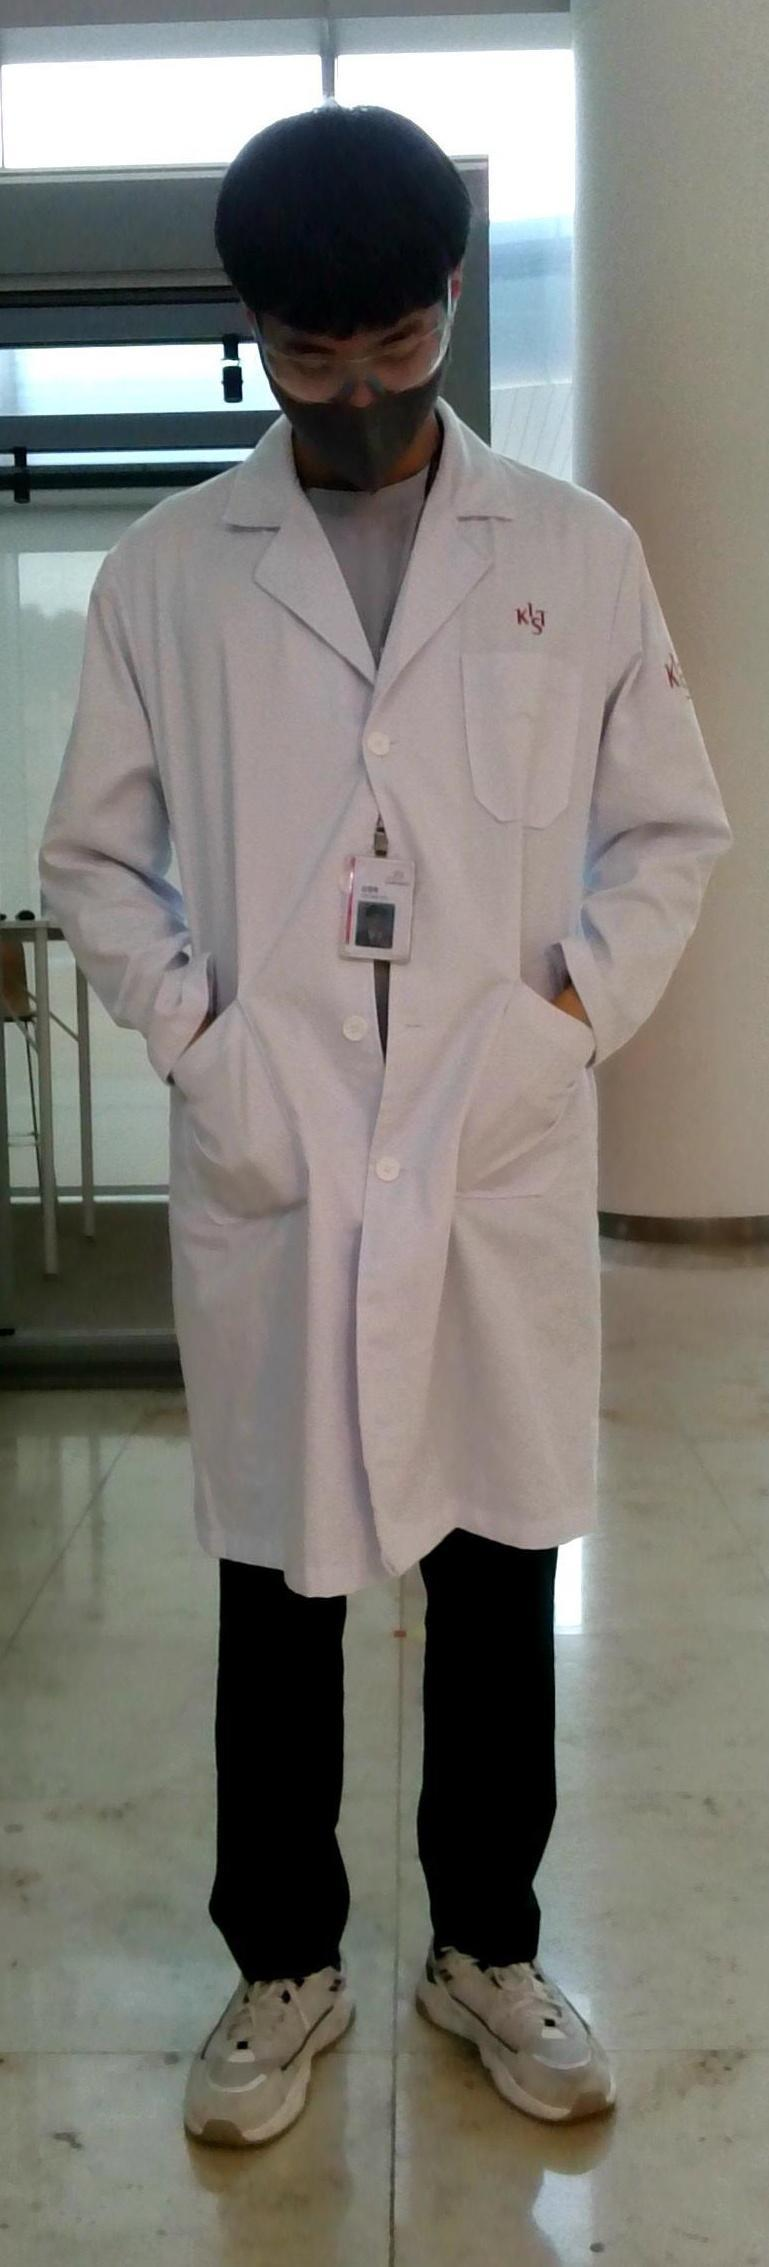lab_coat: (46, 486, 739, 1559)
